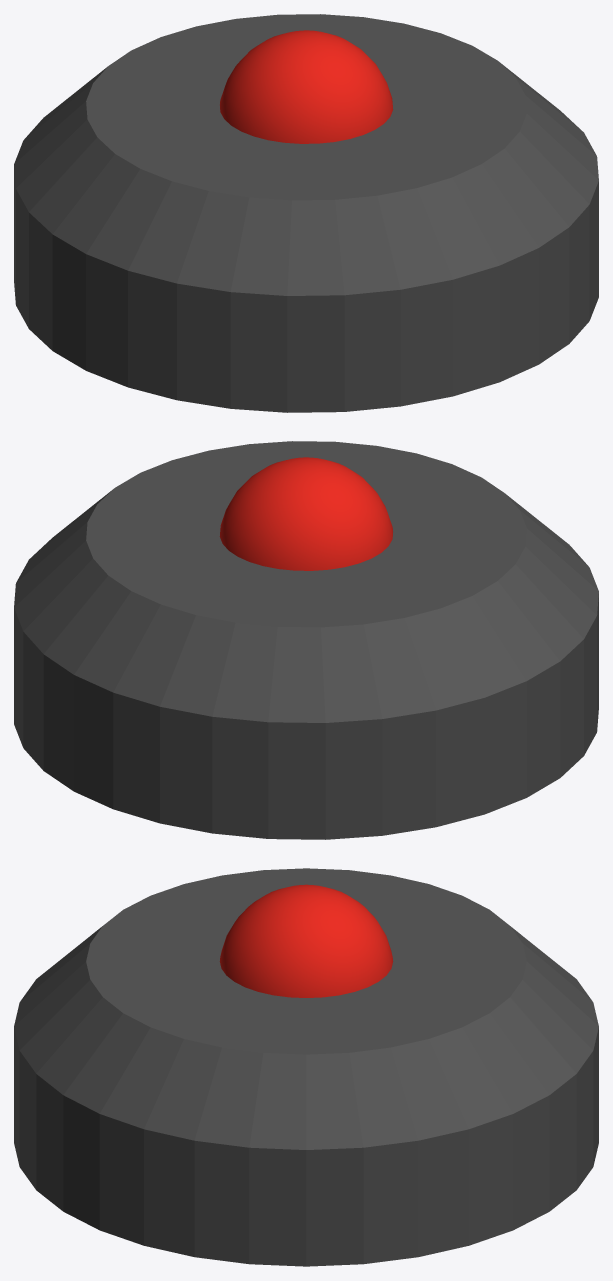
Rendered from test-mine.glb.
The picture shows the model from 3 angles, top to bottom: view 1: azimuth 30°, elevation 25°; view 2: azimuth 150°, elevation 25°; view 3: azimuth 270°, elevation 25°; orthographic projection.
Parts seen in each view (by area): view 1: Cylinder, Sphere; view 2: Cylinder, Sphere; view 3: Cylinder, Sphere.
Boxes of the visible parts, x1,y1,x2,y2 form: Cylinder: (14, 14, 598, 412); Sphere: (220, 30, 393, 143); Cylinder: (14, 441, 598, 839); Sphere: (219, 457, 392, 570); Cylinder: (14, 868, 598, 1266); Sphere: (219, 884, 393, 997).
Size of the model in its own units: 3.33 by 1.57 by 3.33.
